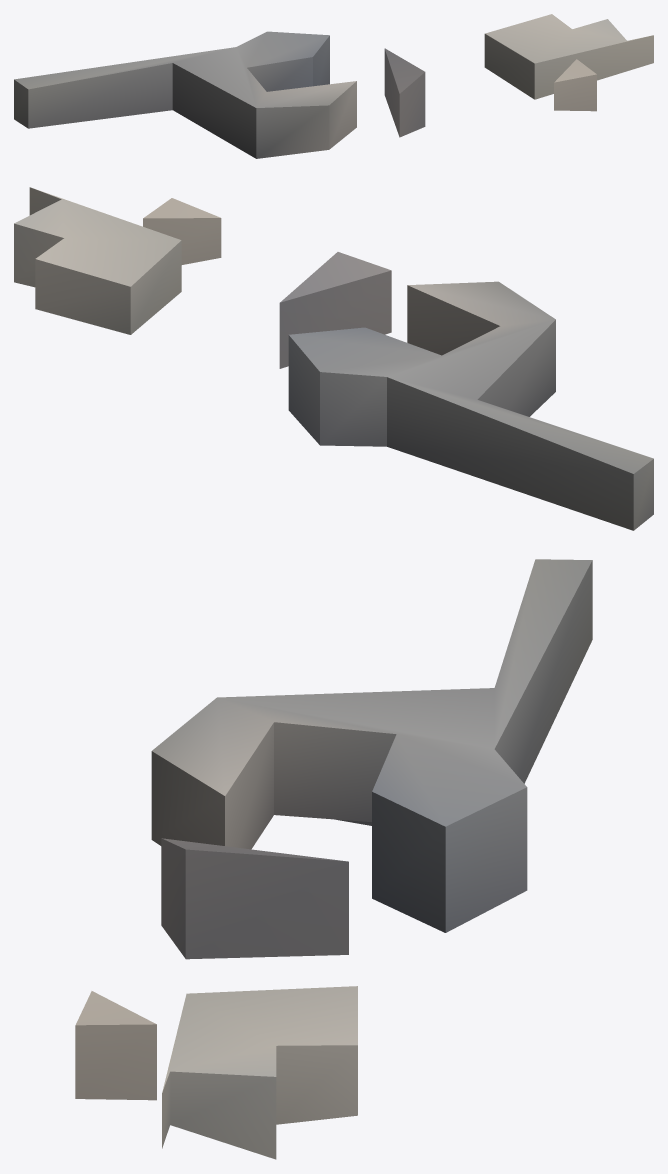
File: structures.glb
3 views of the same model, one above another, from view 1: azimuth 30°, elevation 25°; view 2: azimuth 150°, elevation 25°; view 3: azimuth 270°, elevation 25° (orthographic). The views are drawn at different scales.
Parts seen in each view (by area): view 1: structure_0, structure_2, structure_1, structure_3; view 2: structure_0, structure_2, structure_1, structure_3; view 3: structure_0, structure_2, structure_1, structure_3.
Boxes of the visible parts, x1,y1,x2,y2 form: structure_0: (14, 31, 356, 158); structure_2: (484, 14, 653, 99); structure_1: (384, 48, 425, 137); structure_3: (554, 59, 596, 111); structure_0: (288, 281, 653, 530); structure_2: (14, 187, 181, 334); structure_1: (279, 252, 391, 368); structure_3: (143, 198, 221, 264); structure_0: (151, 559, 592, 932); structure_2: (162, 986, 357, 1159); structure_1: (161, 838, 348, 959); structure_3: (75, 991, 156, 1100).
Size of the model in its own units: 30.12 by 3.06 by 12.67.
